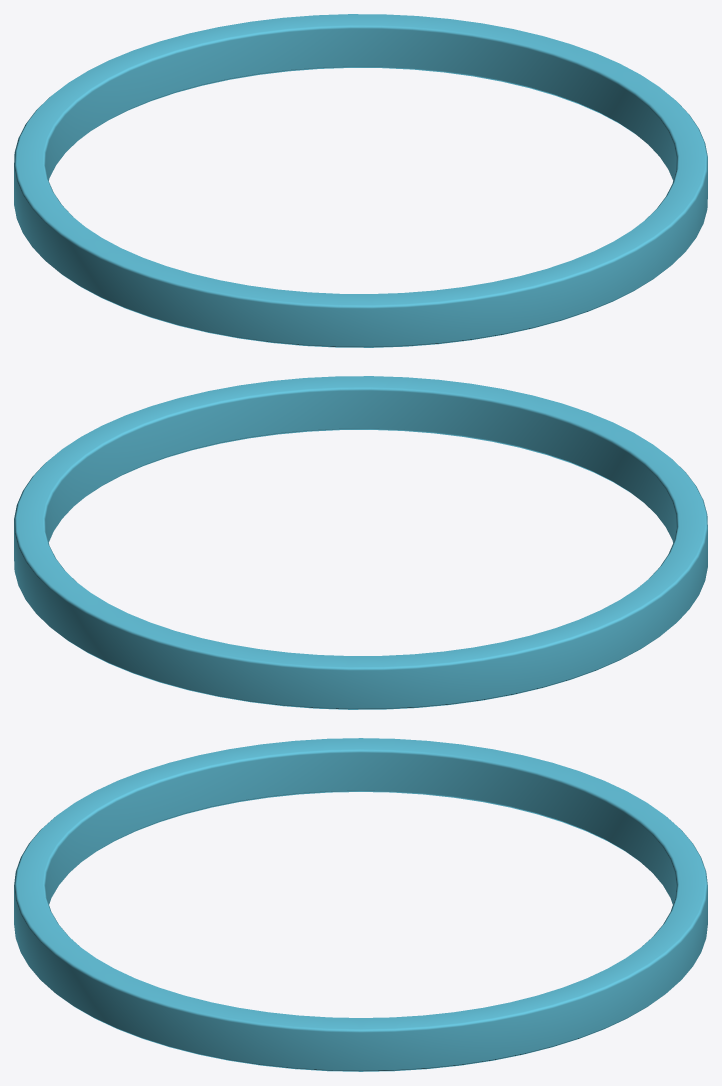
3 views of the same model, one above another, from view 1: azimuth 30°, elevation 25°; view 2: azimuth 150°, elevation 25°; view 3: azimuth 270°, elevation 25° (orthographic).
Parts seen in each view (by area): view 1: seal_body; view 2: seal_body; view 3: seal_body.
Boxes of the visible parts, x1,y1,x2,y2 form: seal_body: [14, 14, 707, 347]; seal_body: [14, 376, 707, 709]; seal_body: [14, 738, 707, 1071].
Bounding box in the file's own units: 0.1397 × 0.00952 × 0.1397.
